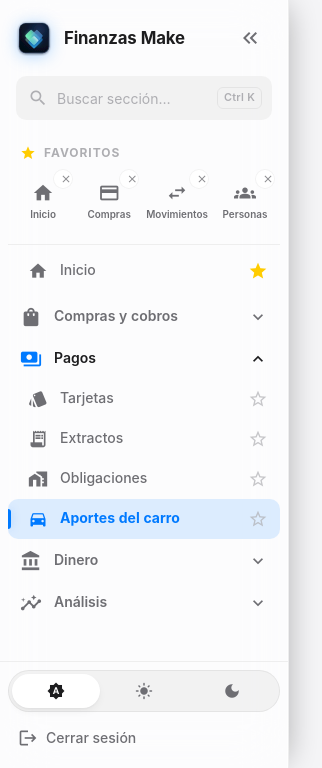
Test case: MenuComponent › búsqueda › muestra una lista plana ordenada por relevancia, con el grupo de cada resultado
Type "carro" into the search field with class "buscador-input".
click(144, 98); type("carro")  # box [16,76,272,120]
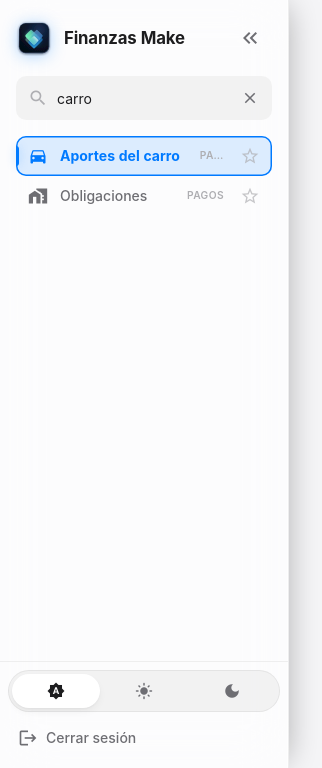
Check: the text with class "item-grupo" next to "Aportes del carro" reads "Pagos", box [200,150,237,162]
Check: the element with class "grupos" is gone
Check: the button with class "favoritos" is gone
